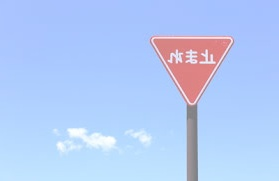Regulatory_sign_triangle: (149, 31, 240, 108)
